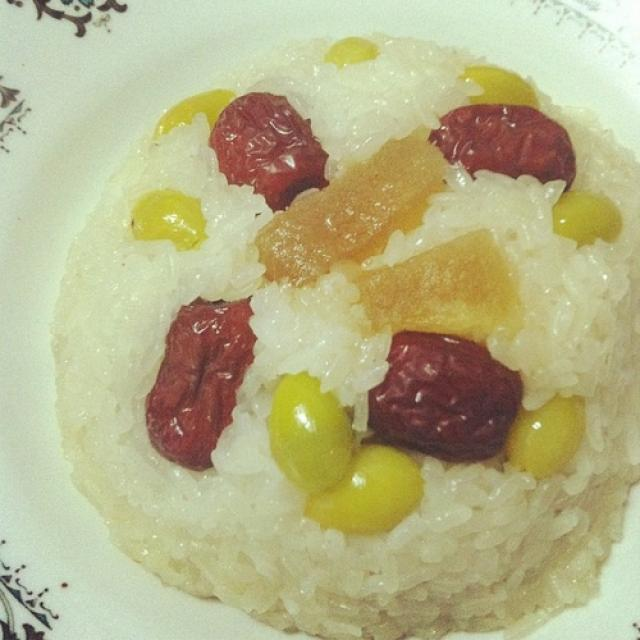米饭主食: (33, 18, 634, 623)
